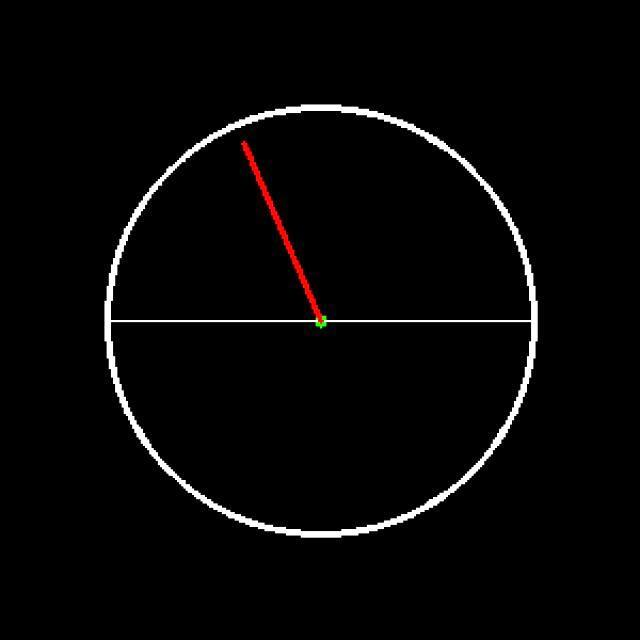Needle_Tip: (212, 125, 285, 179)
Needle_base: (294, 293, 352, 355)
